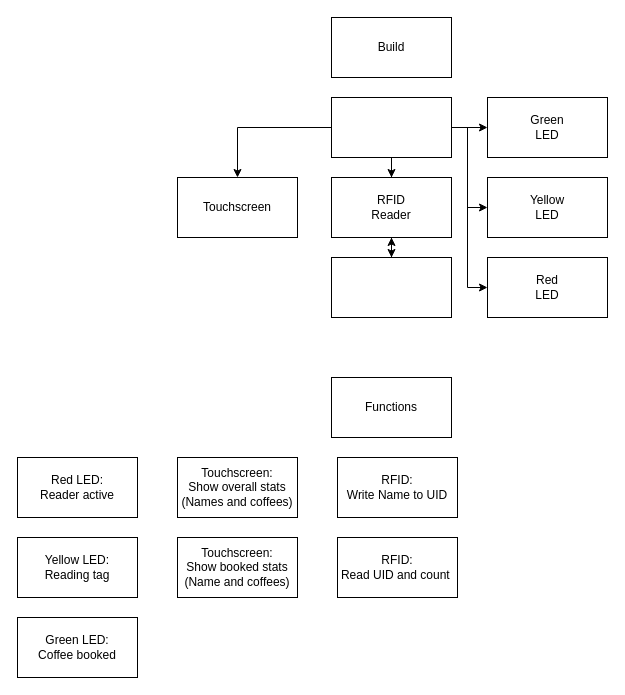
This 625x695 diagram has some shape labels left out. Each missing label, with the box of its shape:
Raspberry Pi: (330, 96, 452, 158)
RFID Tag: (330, 256, 452, 318)
